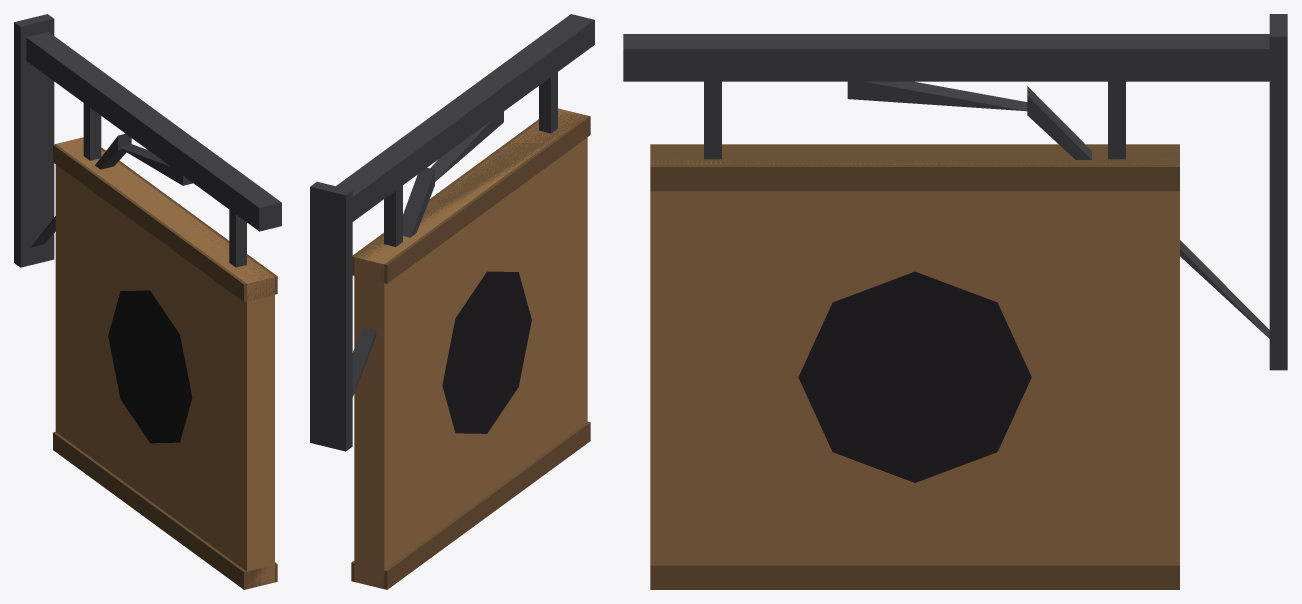
The model's file is HangingSign.fbx.
3 renders of one model, left to right at view 1: azimuth 30°, elevation 25°; view 2: azimuth 150°, elevation 25°; view 3: azimuth 270°, elevation 25°, orthographic. The views are drawn at different scales.
Parts seen in each view (by area): view 1: HangingSign; view 2: HangingSign; view 3: HangingSign.
Part boxes in pixels (x1,y1,x2,y2): HangingSign: (14,14,281,589); HangingSign: (310,14,594,589); HangingSign: (623,14,1287,589).
Size of the model in its own units: 0.06 by 0.68 by 0.74.
